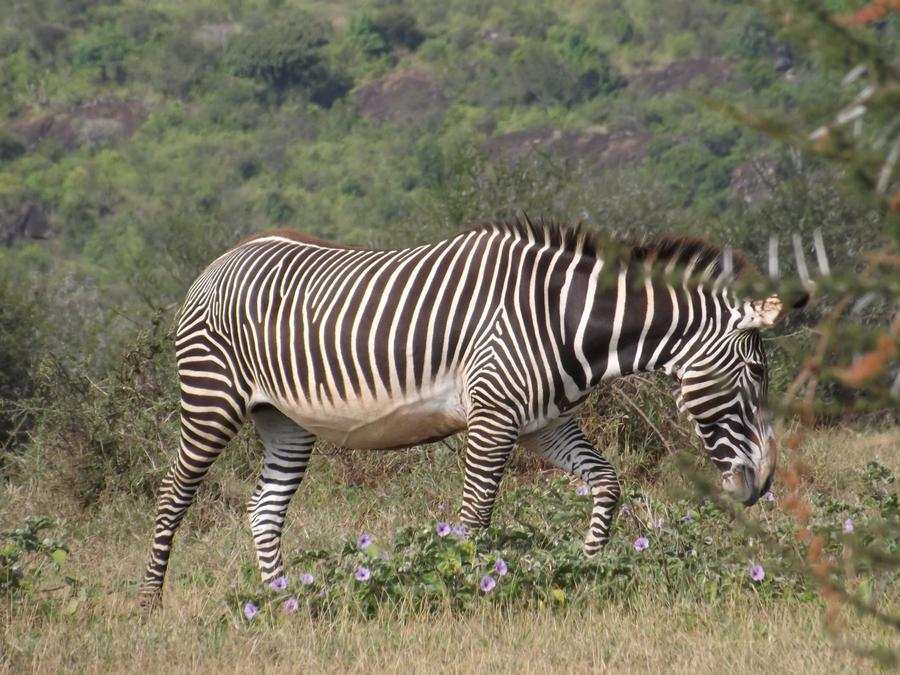zebra_grevys: (171, 227, 528, 428)
